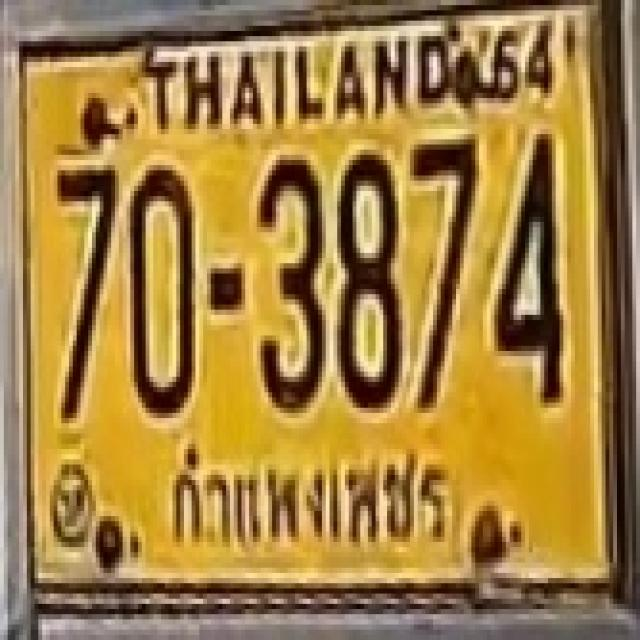0: (126, 165, 192, 413)
3: (257, 155, 322, 408)
4: (490, 129, 560, 397)
7: (408, 134, 477, 408), (54, 162, 115, 416), (54, 165, 115, 367)
8: (334, 150, 398, 402)
KPT: (155, 436, 464, 564)
